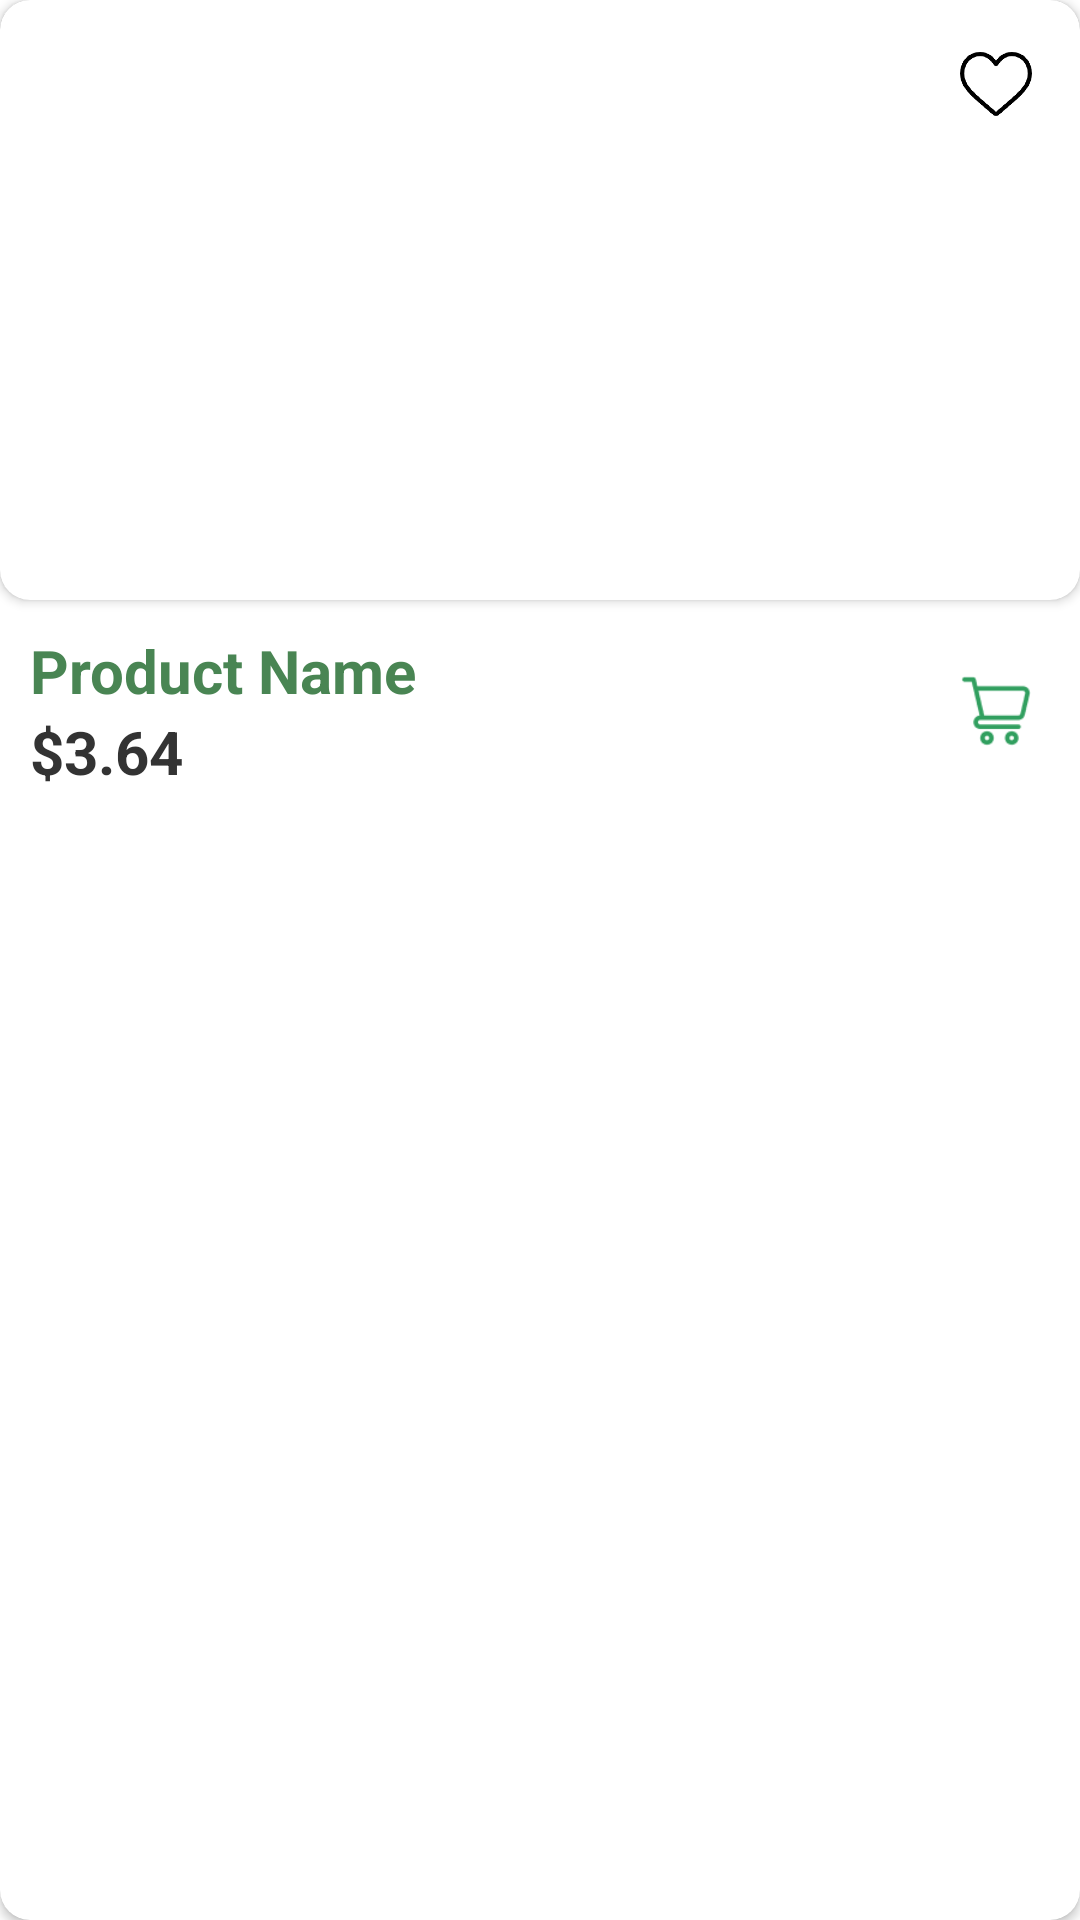

Screen size 1080 x 1920. Icon name, then its center in pixels as (x=x, y=y):
like: (x=996, y=84)
